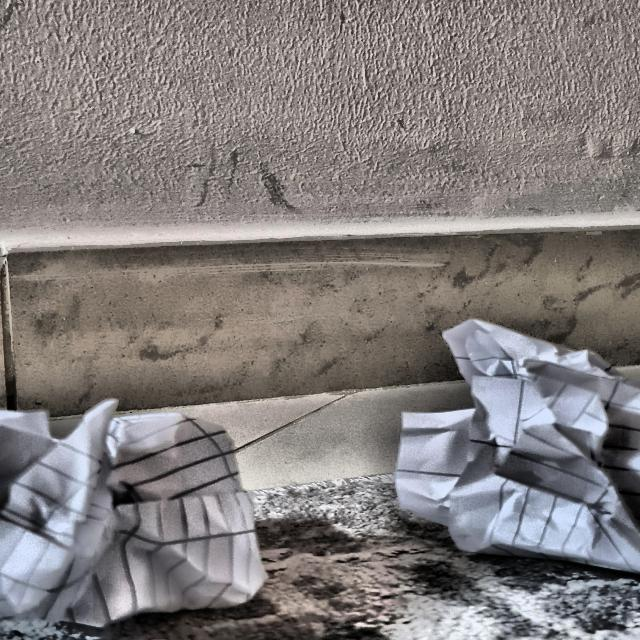paper: (397, 312, 640, 596), (0, 379, 274, 620)
